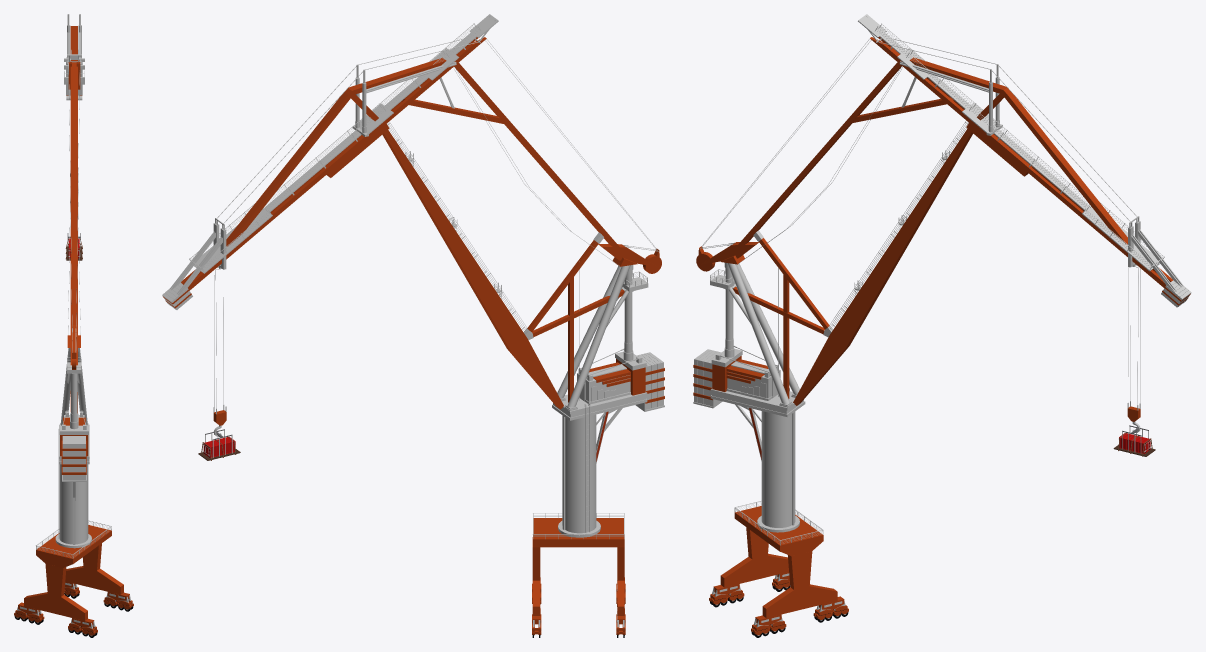
The model's file is Crane.obj.
3 views of the same model, side by side, from view 1: azimuth 30°, elevation 25°; view 2: azimuth 150°, elevation 25°; view 3: azimuth 270°, elevation 25° (orthographic). The views are drawn at different scales.
Visible parts, largest first — view 1: Cranearm82, Rotatingrod2, Cranelegl1, Cranelegr1, Part69, Part3, Part1, Cylinder16, Cylinder19, Cylinder20, Cranearm88, Part53 (+3 smaller); view 2: Rotatingrod2, Cranearm93, Cranearm96, Cranearm84, Cranearm94, Cranearm72, Cranearm82, Cylinder19, Part2, Cylinder16, Cranearm98, Cranearm69 (+2 smaller); view 3: Rotatingrod2, Cranelegr1, Cranearm83, Cranearm96, Cranelegl1, Cranearm84, Cranearm94, Cranearm72, Cranearm82, Cylinder16, Cylinder19, Cranearm69 (+6 smaller).
Boxes of the visible parts, bbox=[...] form: Cranearm82: bbox=[70, 62, 77, 324]; Rotatingrod2: bbox=[59, 464, 88, 544]; Cranelegl1: bbox=[24, 563, 87, 620]; Cranelegr1: bbox=[65, 543, 123, 594]; Part69: bbox=[62, 442, 85, 480]; Part3: bbox=[63, 528, 111, 564]; Part1: bbox=[45, 525, 101, 567]; Cylinder16: bbox=[77, 348, 87, 425]; Cylinder19: bbox=[60, 348, 70, 425]; Cylinder20: bbox=[71, 373, 77, 414]; Cranearm88: bbox=[70, 328, 77, 365]; Part53: bbox=[59, 425, 88, 434]; Rotatingrod2: bbox=[562, 414, 596, 533]; Cranearm93: bbox=[188, 44, 474, 290]; Cranearm96: bbox=[382, 133, 518, 351]; Cranearm84: bbox=[226, 92, 351, 246]; Cranearm94: bbox=[384, 130, 563, 409]; Cranearm72: bbox=[263, 26, 484, 212]; Cranearm82: bbox=[454, 62, 619, 247]; Cylinder19: bbox=[567, 265, 630, 407]; Part2: bbox=[533, 533, 624, 545]; Cylinder16: bbox=[557, 266, 621, 398]; Cranearm98: bbox=[388, 130, 526, 341]; Cranearm69: bbox=[194, 209, 272, 273]; Rotatingrod2: bbox=[761, 411, 795, 527]; Cranelegr1: bbox=[762, 551, 837, 618]; Cranearm83: bbox=[881, 44, 1166, 288]; Cranearm96: bbox=[838, 132, 973, 348]; Cranelegl1: bbox=[720, 527, 788, 587]; Cranearm84: bbox=[1004, 91, 1127, 244]; Cranearm94: bbox=[793, 129, 970, 405]; Cranearm72: bbox=[872, 25, 1091, 210]; Cranearm82: bbox=[738, 62, 901, 248]; Cylinder16: bbox=[727, 263, 789, 403]; Cylinder19: bbox=[736, 263, 799, 395]; Cranearm69: bbox=[1082, 207, 1160, 271].
Bounding box in the file's own units: 116 × 252 × 185.
